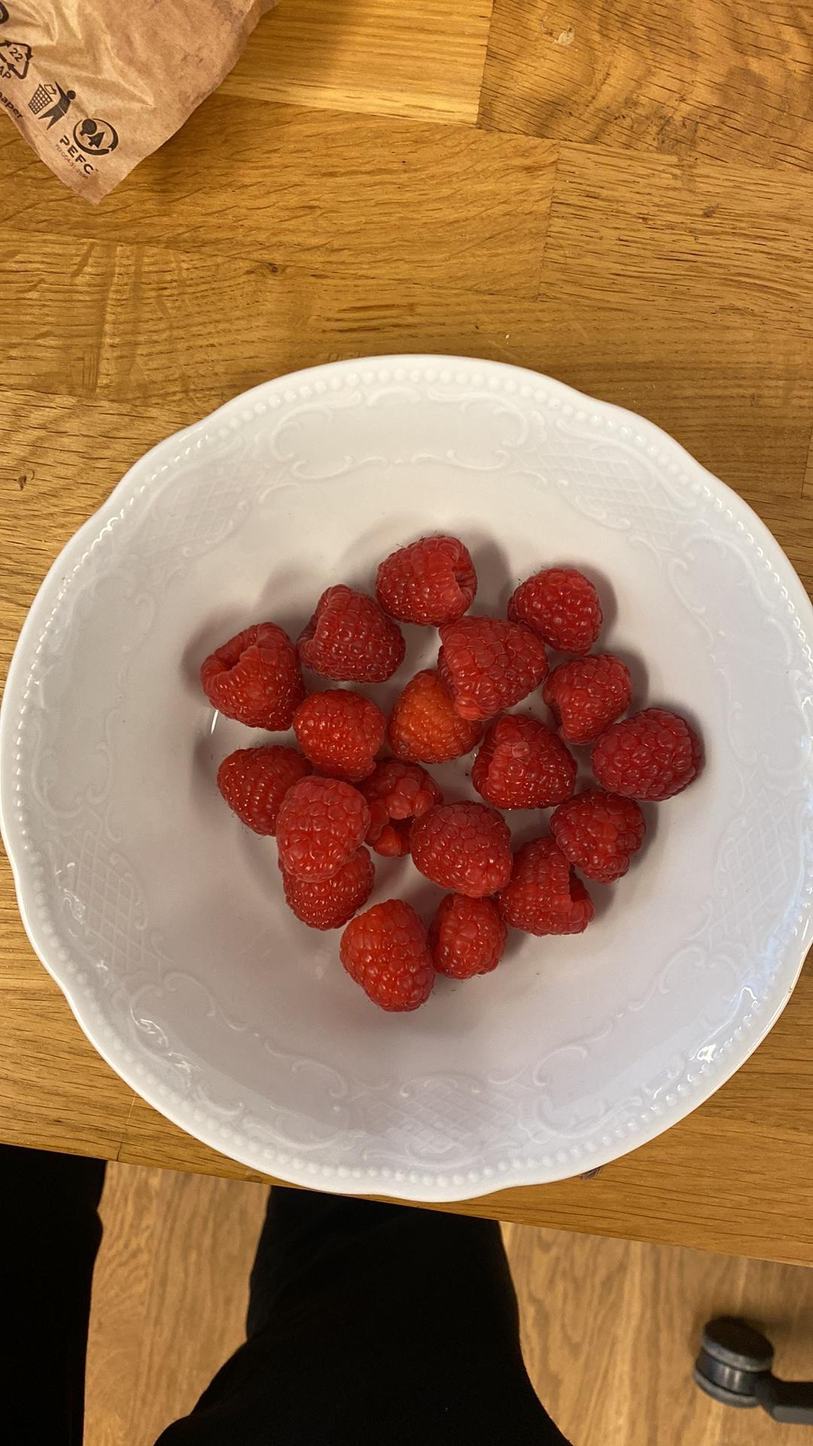raspberry: (432, 615, 548, 723), (339, 894, 443, 1014), (297, 580, 411, 687), (410, 799, 529, 901), (195, 625, 306, 733), (467, 714, 583, 810), (500, 842, 601, 946), (597, 706, 702, 802), (277, 772, 365, 883), (293, 689, 388, 791), (371, 534, 481, 622), (210, 743, 316, 833), (507, 566, 611, 656), (386, 665, 481, 763), (552, 787, 642, 879), (548, 656, 638, 744), (353, 754, 432, 854), (428, 885, 507, 983), (282, 843, 365, 932)
